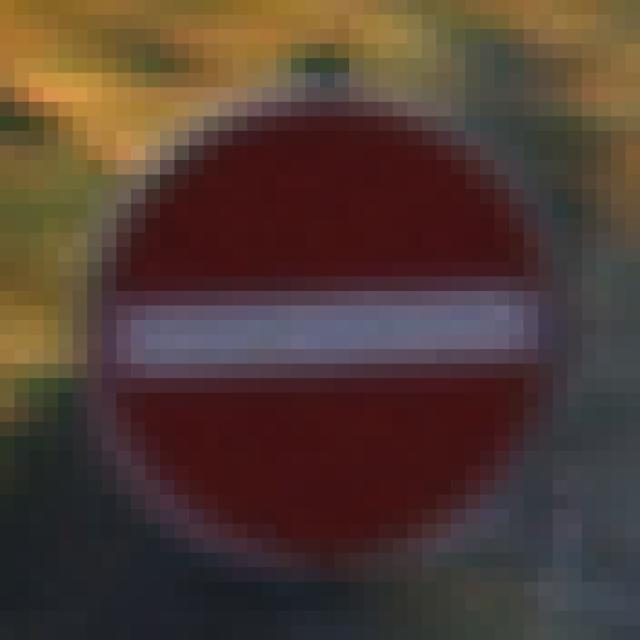No Entry: (89, 74, 569, 568)
